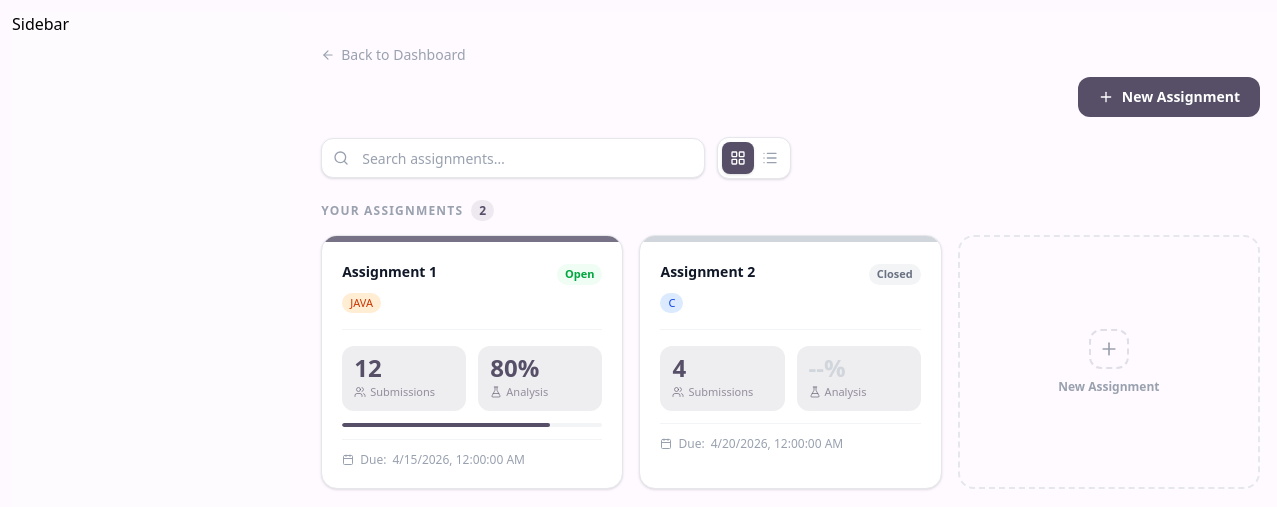
Test: CoursePage › filters assignments using the search input
Expected: the heading "Assignment 1" is shown, [342,262,437,281]
In the field with placeholder "Search assignments…": x=513, y=158 [321,138,705,178], type "Assignment 2"
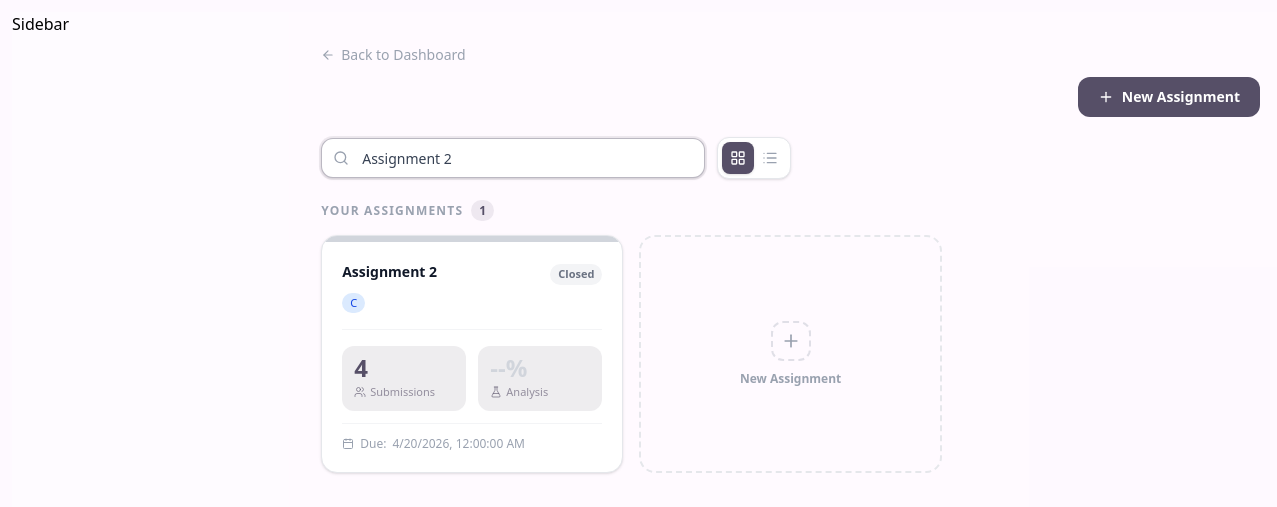
Expected: the heading "Assignment 2" is shown, [342,262,437,281]
Now the link "Assignment 1" is gone
